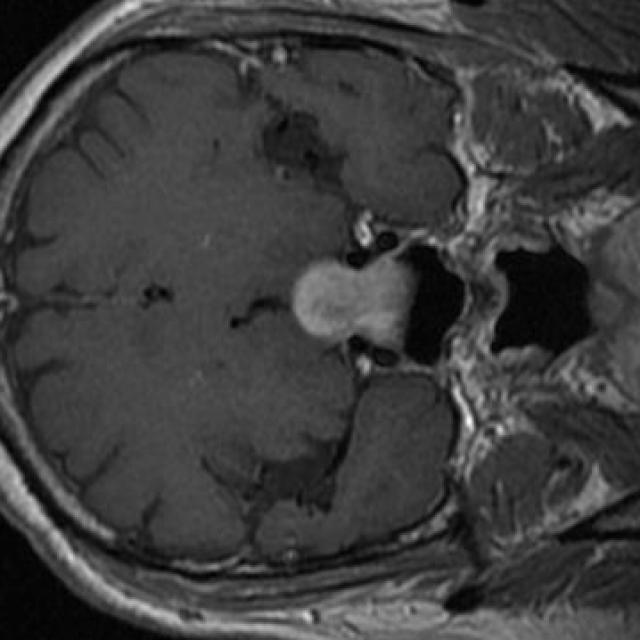pituitary: (291, 258, 415, 346)
